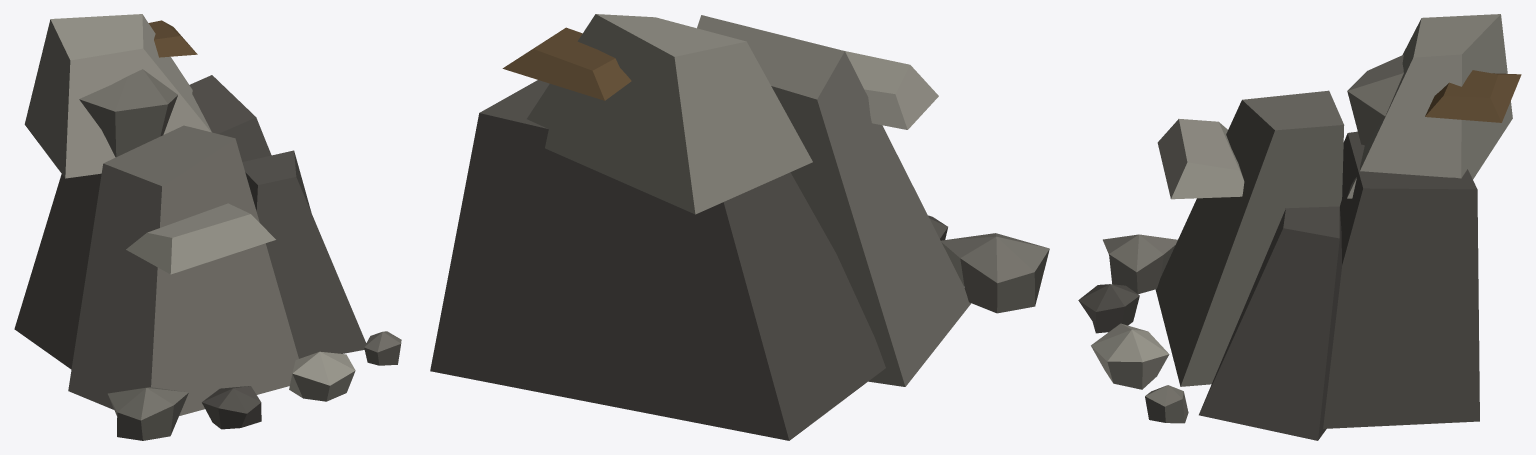
Rendered from rock_outcrop.glb.
3 renders of one model, left to right at view 1: azimuth 30°, elevation 25°; view 2: azimuth 150°, elevation 25°; view 3: azimuth 270°, elevation 25°, orthographic. The views are drawn at different scales.
Visible parts, largest first — view 1: face, bed.001, bed, face.001, ledge, rock, rock.001, rock.003, rock.002, rock.004, topsoil; view 2: bed, bed.001, face, rock.001, topsoil, ledge; view 3: bed, face, face.001, bed.001, ledge, topsoil, rock.003, rock.001, rock, rock.002, rock.004.
Boxes of the visible parts, x1=… form: face: x1=68, y1=125, x2=298, y2=415; bed.001: x1=24, y1=14, x2=211, y2=178; bed: x1=14, y1=75, x2=271, y2=369; face.001: x1=242, y1=150, x2=366, y2=358; ledge: x1=126, y1=203, x2=275, y2=274; rock: x1=79, y1=69, x2=177, y2=157; rock.001: x1=108, y1=387, x2=188, y2=440; rock.003: x1=289, y1=351, x2=355, y2=401; rock.002: x1=202, y1=386, x2=261, y2=429; rock.004: x1=364, y1=331, x2=401, y2=365; topsoil: x1=148, y1=20, x2=197, y2=57; bed: x1=430, y1=80, x2=885, y2=440; bed.001: x1=527, y1=14, x2=812, y2=214; face: x1=697, y1=15, x2=971, y2=386; rock.001: x1=941, y1=233, x2=1049, y2=313; topsoil: x1=502, y1=27, x2=631, y2=100; ledge: x1=845, y1=51, x2=938, y2=129; bed: x1=1323, y1=131, x2=1479, y2=428; face: x1=1155, y1=90, x2=1344, y2=386; face.001: x1=1199, y1=206, x2=1341, y2=440; bed.001: x1=1347, y1=14, x2=1512, y2=198; ledge: x1=1157, y1=119, x2=1244, y2=199; topsoil: x1=1425, y1=70, x2=1521, y2=122; rock.003: x1=1091, y1=323, x2=1169, y2=389; rock.001: x1=1103, y1=234, x2=1177, y2=294; rock: x1=1347, y1=55, x2=1403, y2=145; rock.002: x1=1078, y1=284, x2=1139, y2=333; rock.004: x1=1145, y1=385, x2=1188, y2=423.
Bounding box in the file's own units: 53.43 × 48.56 × 61.19.
